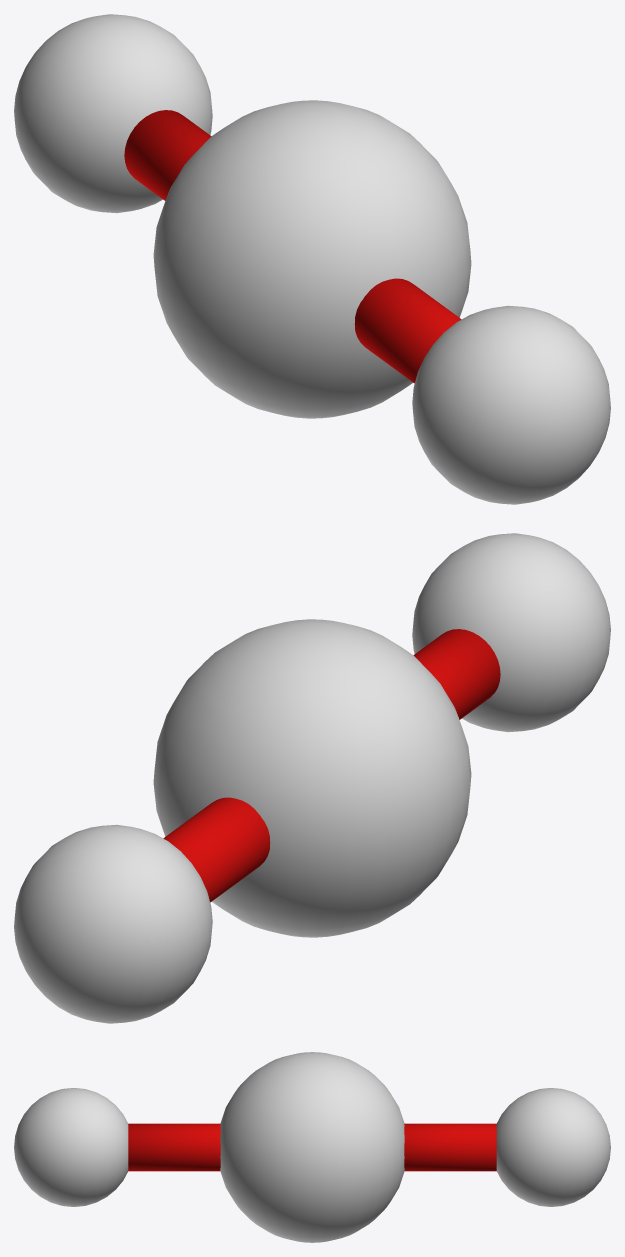
3 renders of one model, top to bottom at view 1: azimuth 30°, elevation 25°; view 2: azimuth 150°, elevation 25°; view 3: azimuth 270°, elevation 25°, orthographic. The views are drawn at different scales.
Parts seen in each view (by area): view 1: Sphere, H.002, H.001, bond.002, bond.001; view 2: Sphere, H.001, H.002, bond.001, bond.002; view 3: Sphere, H.002, H.001, bond.002, bond.001.
Part boxes in pixels (x1,y1,x2,y2): Sphere: (153,100,471,418); H.002: (412,305,610,504); H.001: (14,14,212,213); bond.002: (354,278,461,383); bond.001: (124,110,211,200); Sphere: (153,619,471,937); H.001: (14,824,212,1023); H.002: (412,533,610,732); bond.001: (163,797,270,902); bond.002: (413,629,500,719); Sphere: (220,1052,404,1242); H.002: (14,1088,128,1206); H.001: (496,1088,610,1206); bond.002: (128,1123,220,1171); bond.001: (404,1123,496,1171).
Size of the model in its own units: 160 by 160 by 500.
